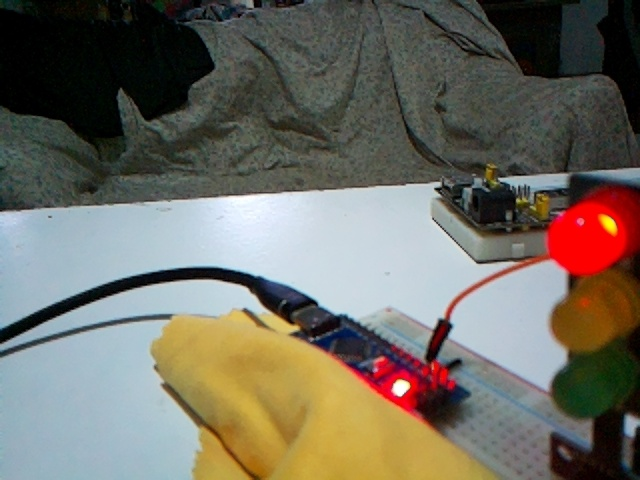traffic_light_red: (546, 187, 639, 275)
